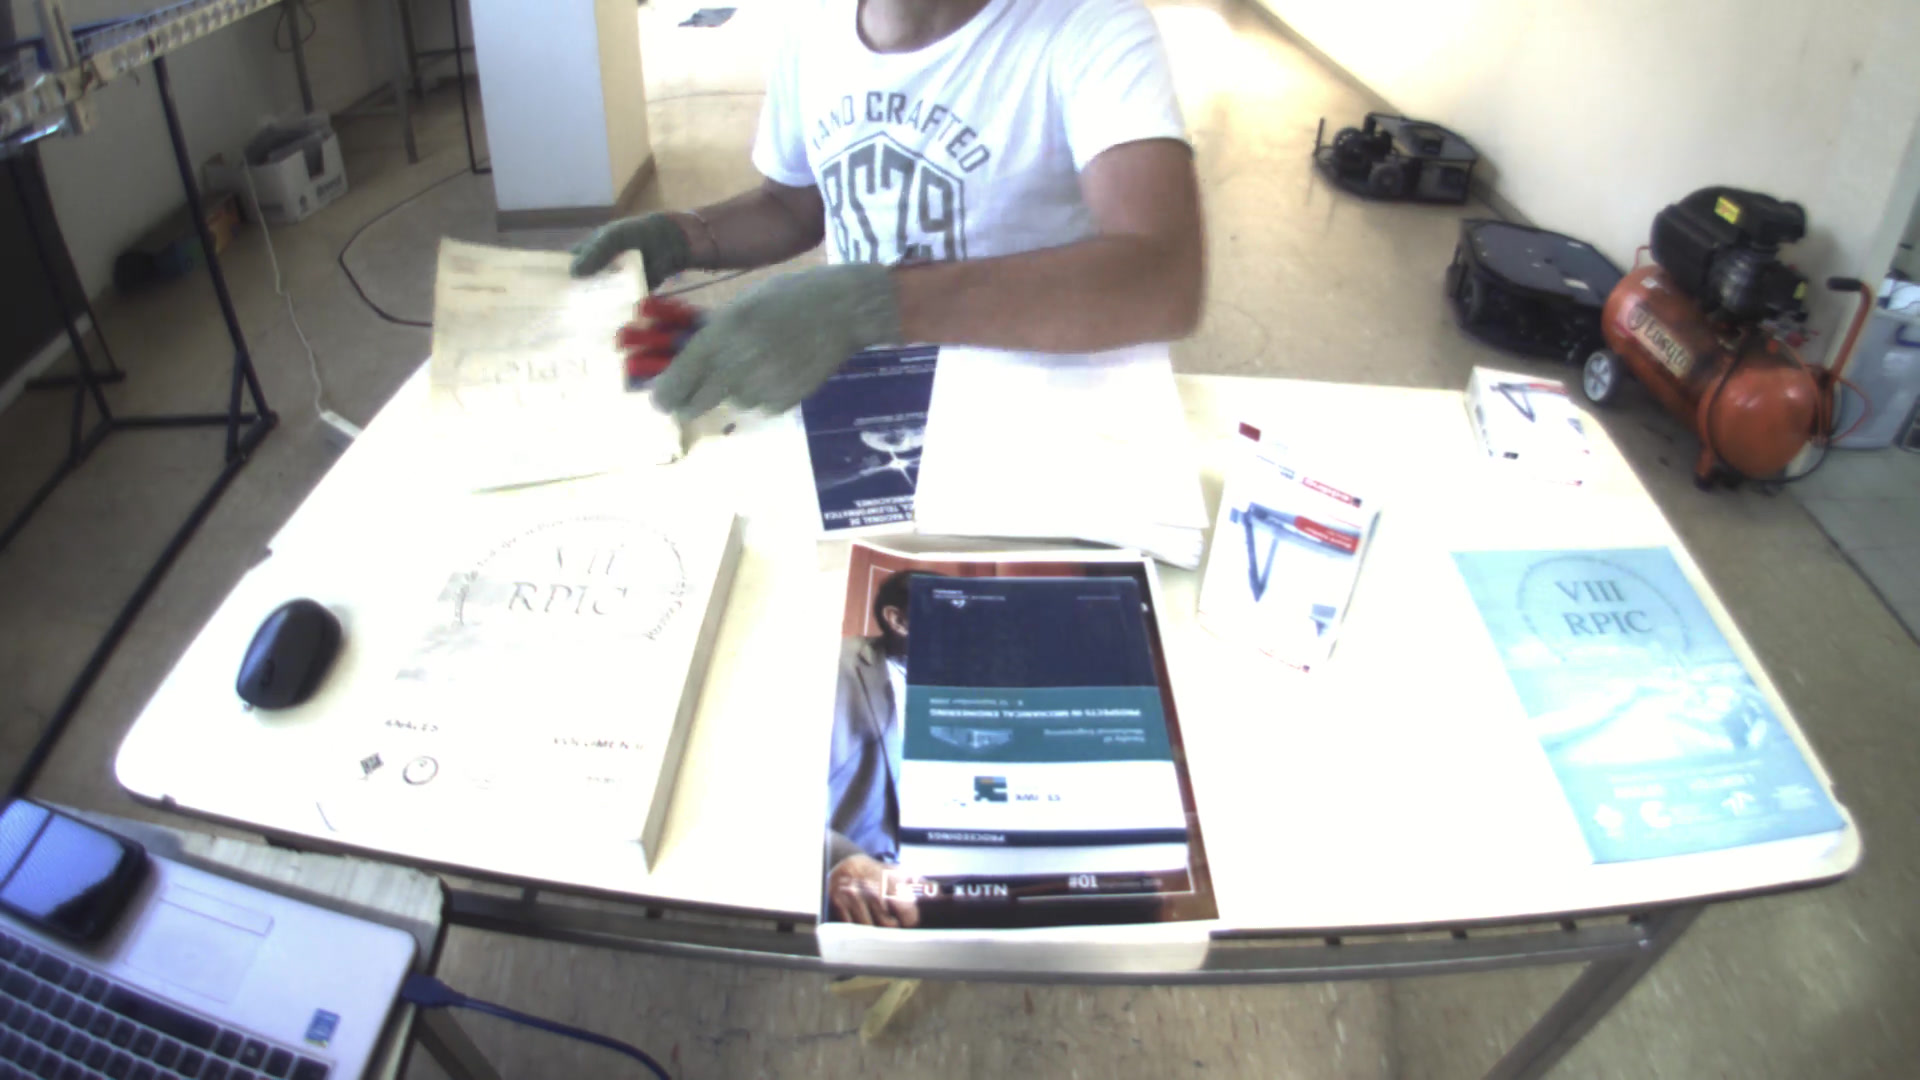hand: (615, 251, 894, 436), (556, 195, 717, 285)
